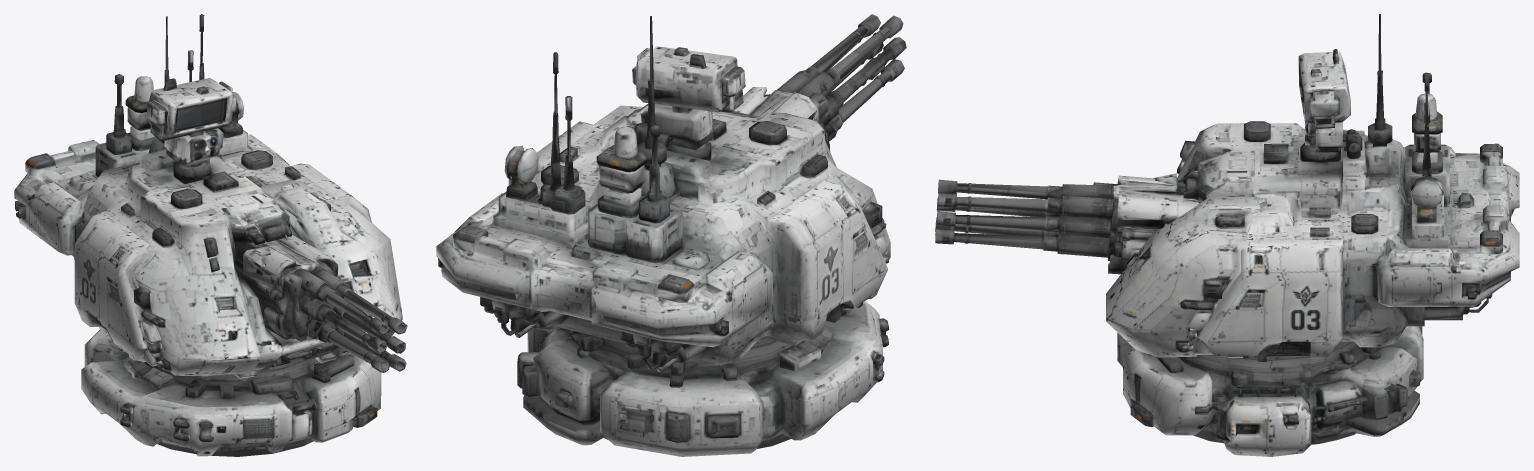
The model's file is u_sung_may.glb.
3 views of the same model, side by side, from view 1: azimuth 30°, elevation 25°; view 2: azimuth 150°, elevation 25°; view 3: azimuth 270°, elevation 25° (orthographic). The views are drawn at different scales.
Parts seen in each view (by area): view 1: u_sung_may; view 2: u_sung_may; view 3: u_sung_may.
Part boxes in pixels (left/top/right/bottom): u_sung_may: left=14, top=14, right=407, bottom=456; u_sung_may: left=436, top=14, right=906, bottom=456; u_sung_may: left=935, top=14, right=1519, bottom=456.
Size of the model in its own units: 3.85 by 5 by 7.03.
1 material, 1 textured.
